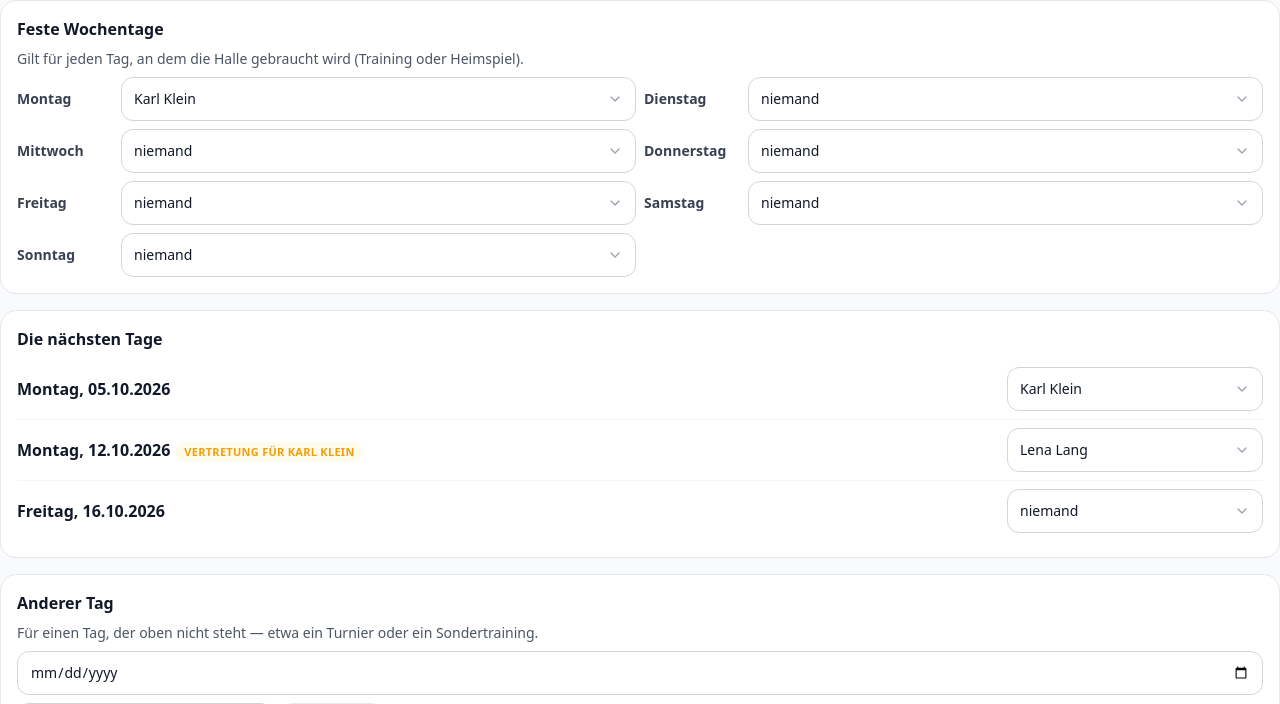
Test case: KeyDutyPanel › findet per Suche nur passende Mitglieder
The image size is (1280, 704).
Click the button named "Schlüsseldienst Montag" at x=165, y=98, box left=121, top=77, right=636, bottom=121
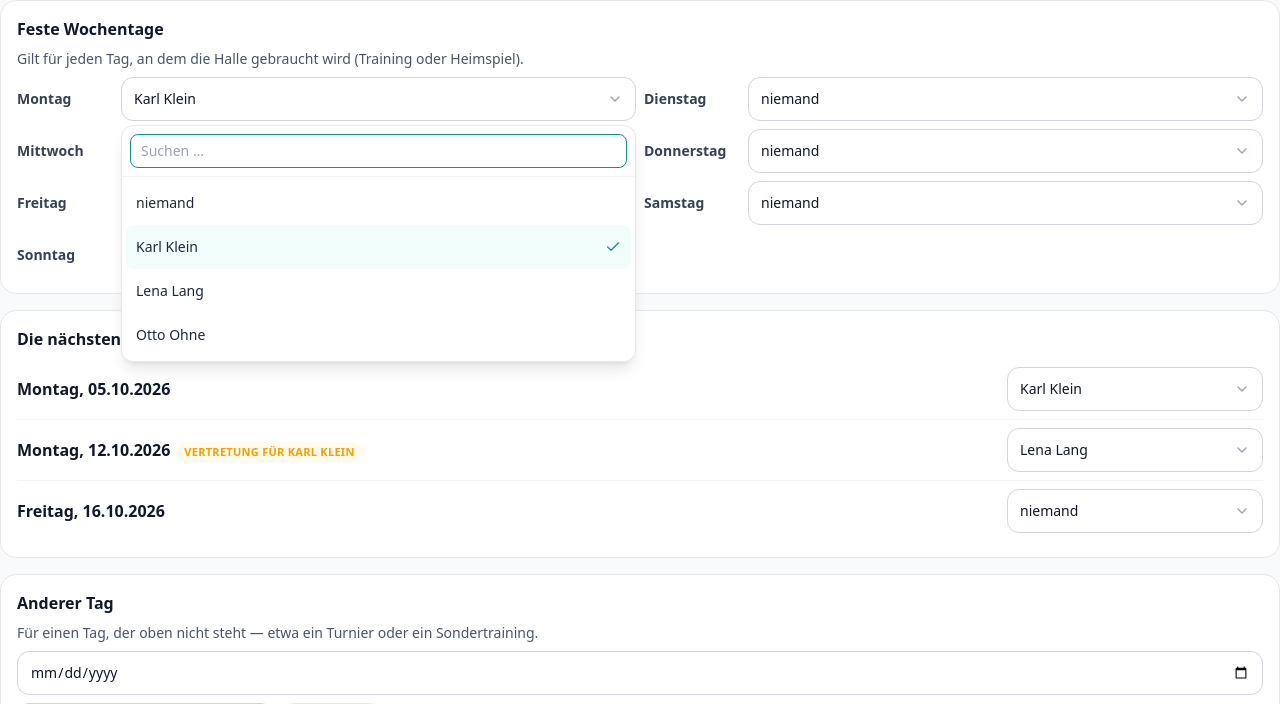
Type "lang" into the field labelled "Suchen" at x=378, y=151, box left=130, top=134, right=627, bottom=168
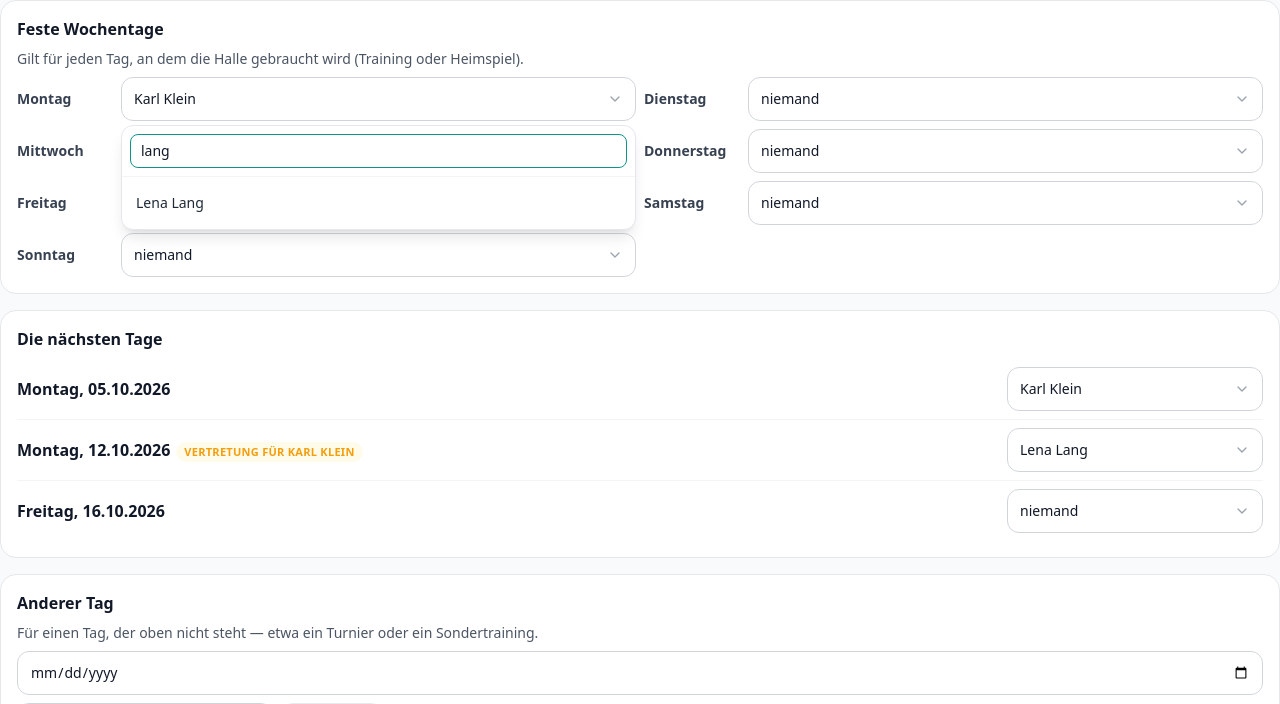
Now the options read "Lena Lang", in this order, box left=126, top=181, right=631, bottom=225
